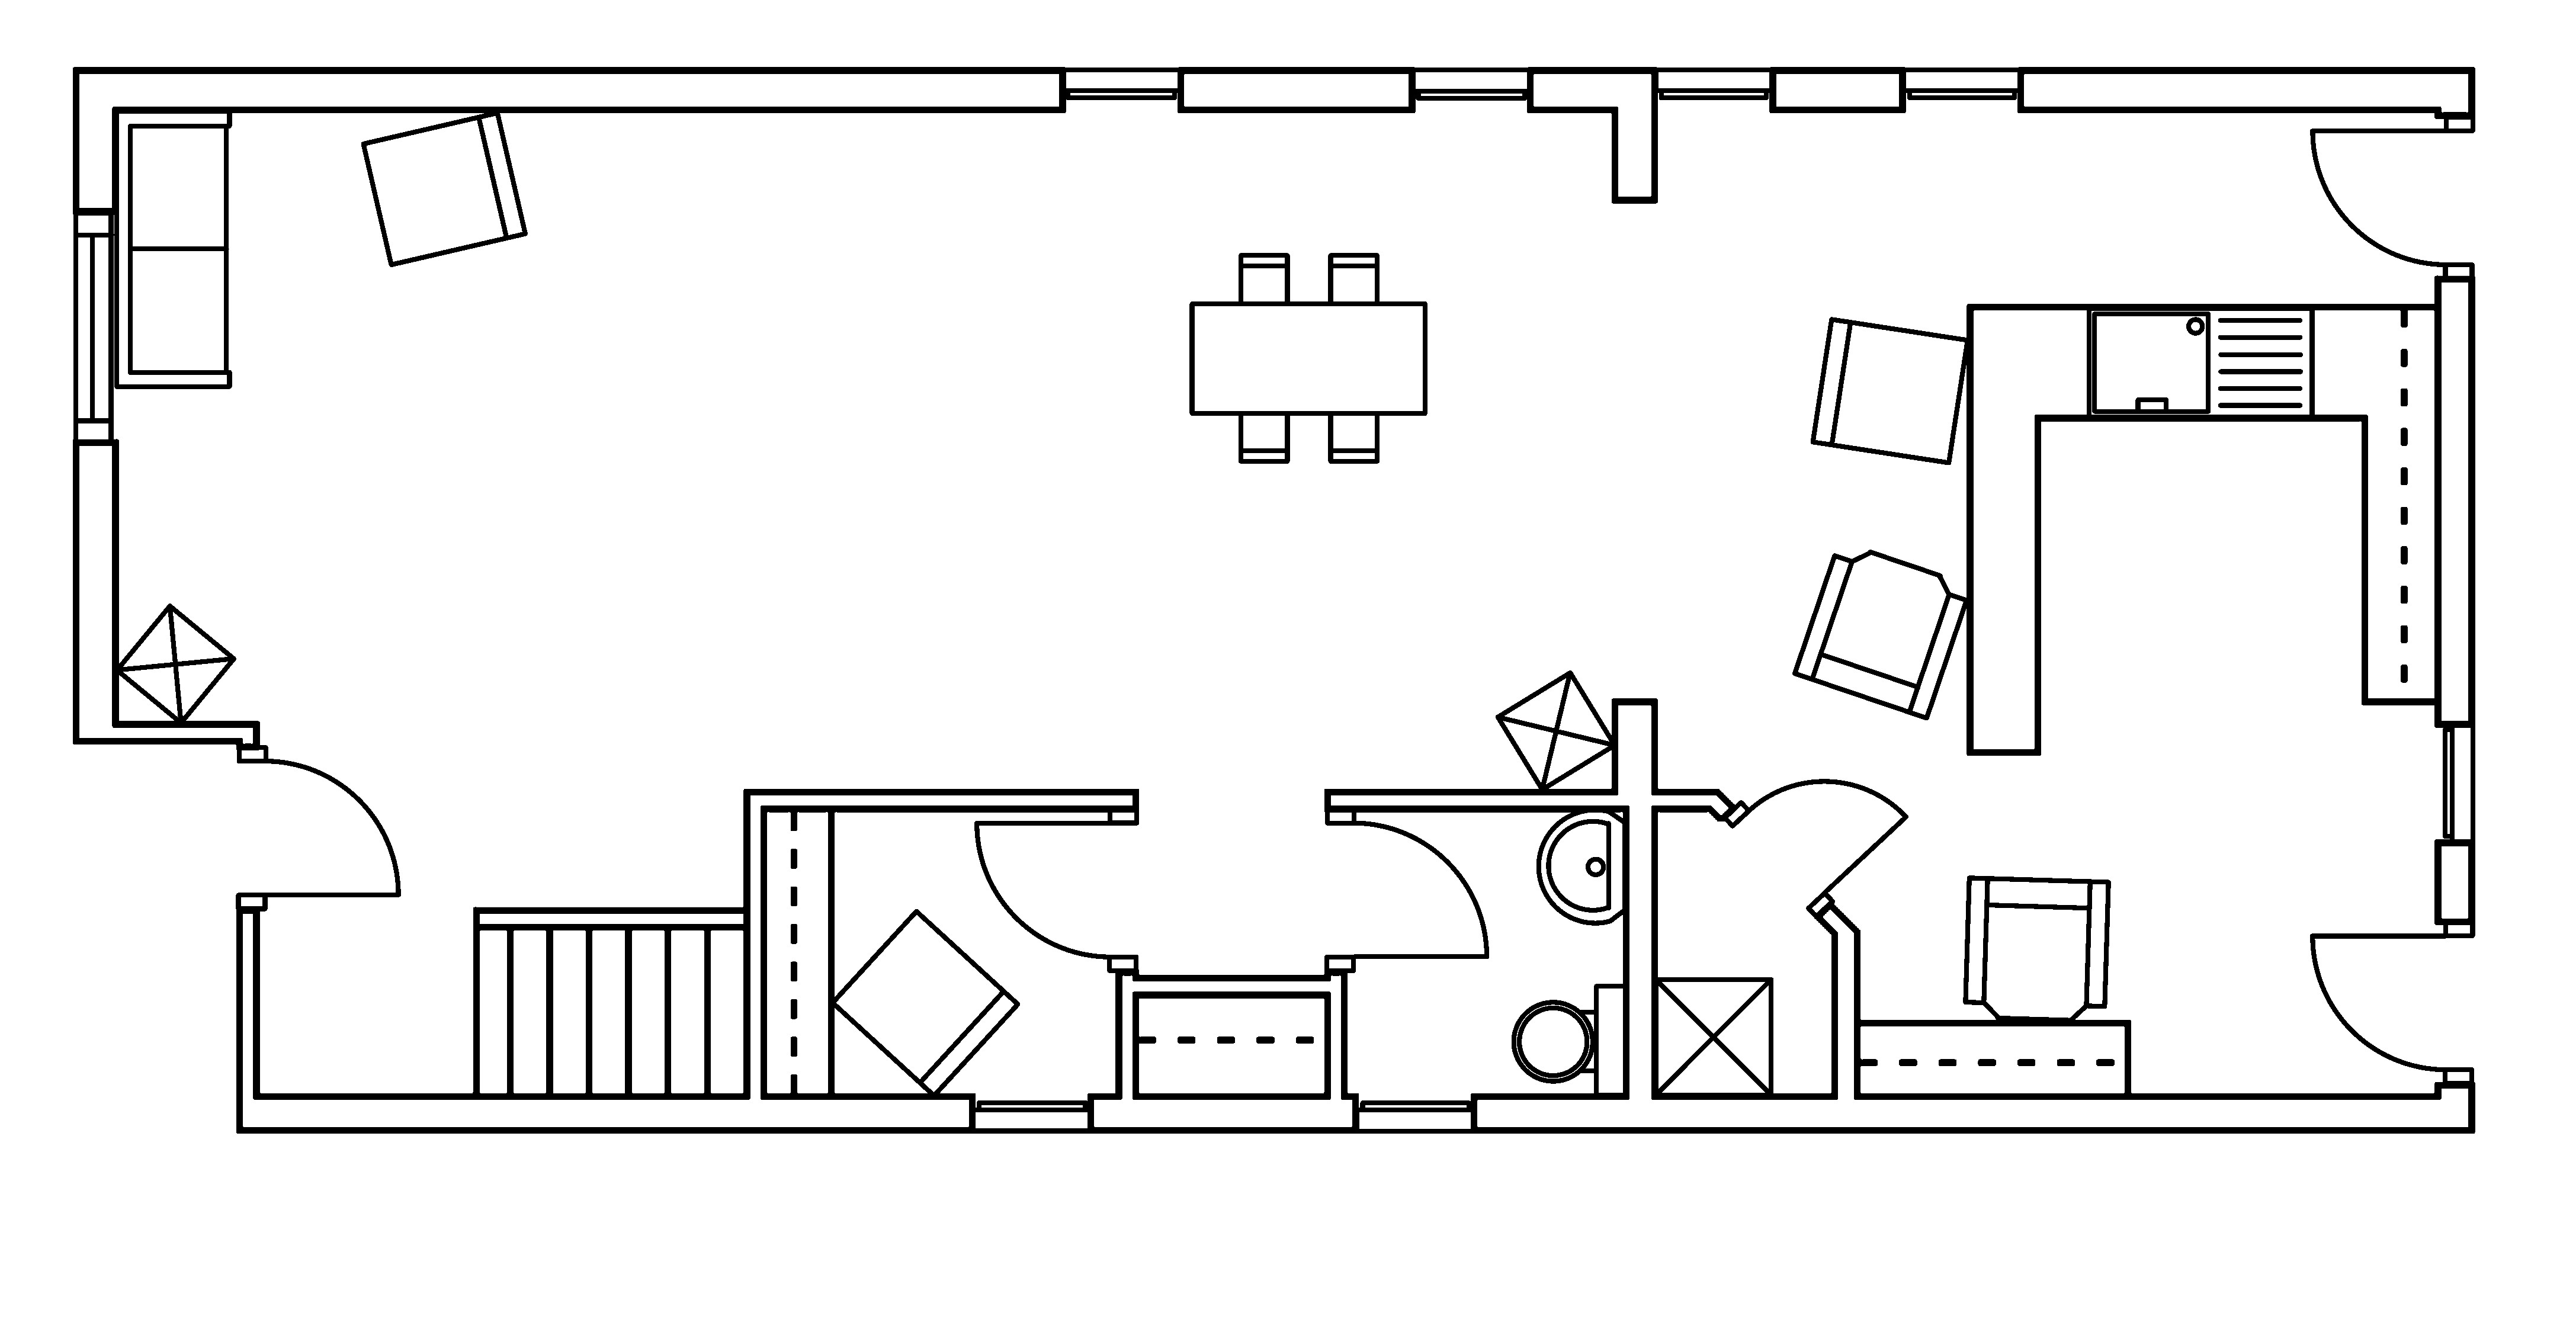armchair: (1791, 548, 1969, 720), (1962, 875, 2110, 1023)
coffee_table: (113, 602, 237, 725), (1493, 670, 1618, 792), (1651, 976, 1774, 1097)
dining_table: (1189, 252, 1428, 464)
large_sink: (1512, 983, 1628, 1097)
large_sofa: (113, 108, 232, 389)
sink: (2085, 305, 2314, 421)
small_sink: (1535, 808, 1628, 925)
small_sofa: (829, 907, 1021, 1099), (360, 109, 528, 268), (1809, 316, 1971, 464)
